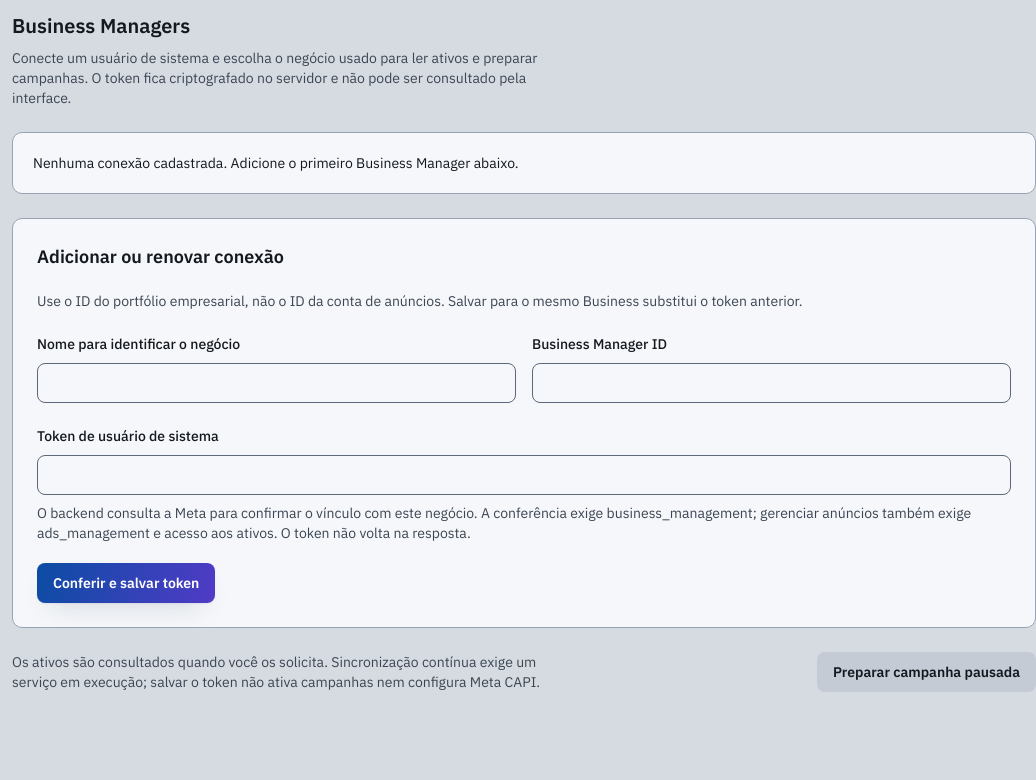
it: o token é enviado apenas ao backend, limpo do campo e nunca salvo no browser
Expected: the text "Nenhuma conexão cadastrada" is shown, [33,154,518,172]
Type "Minha BM" into the field labelled "Nome para identificar o negócio" at (276, 383), box [37,363,516,403]
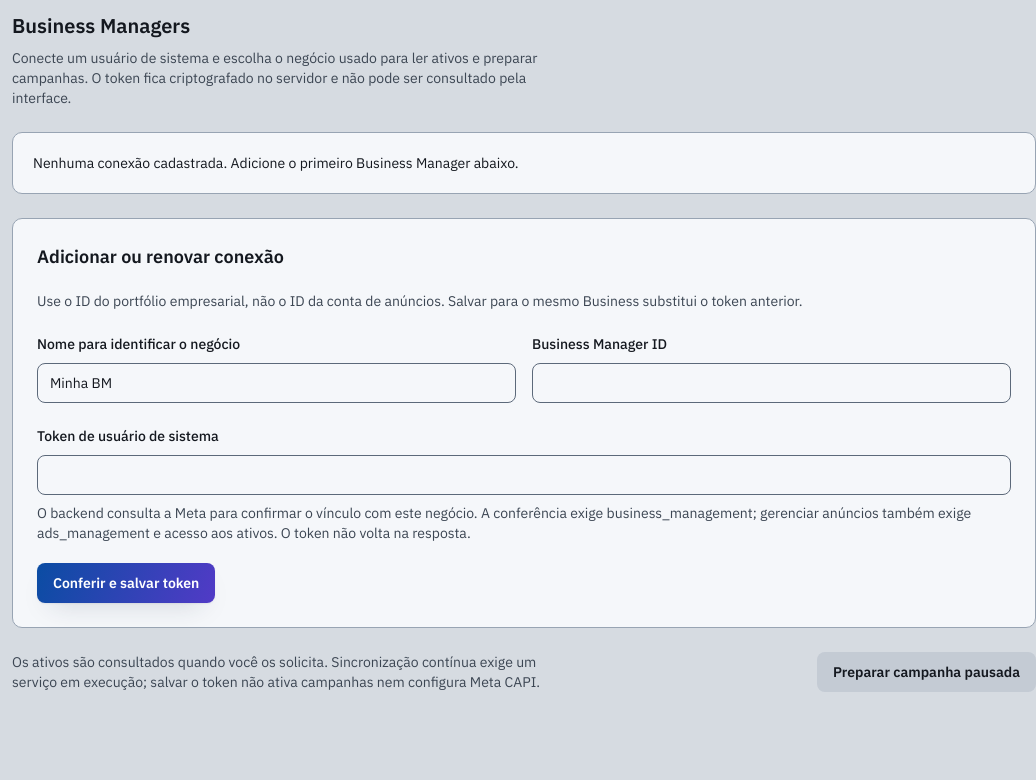
Type "123456789" into the field labelled "Business Manager ID" at (772, 383), box [532,363,1011,403]
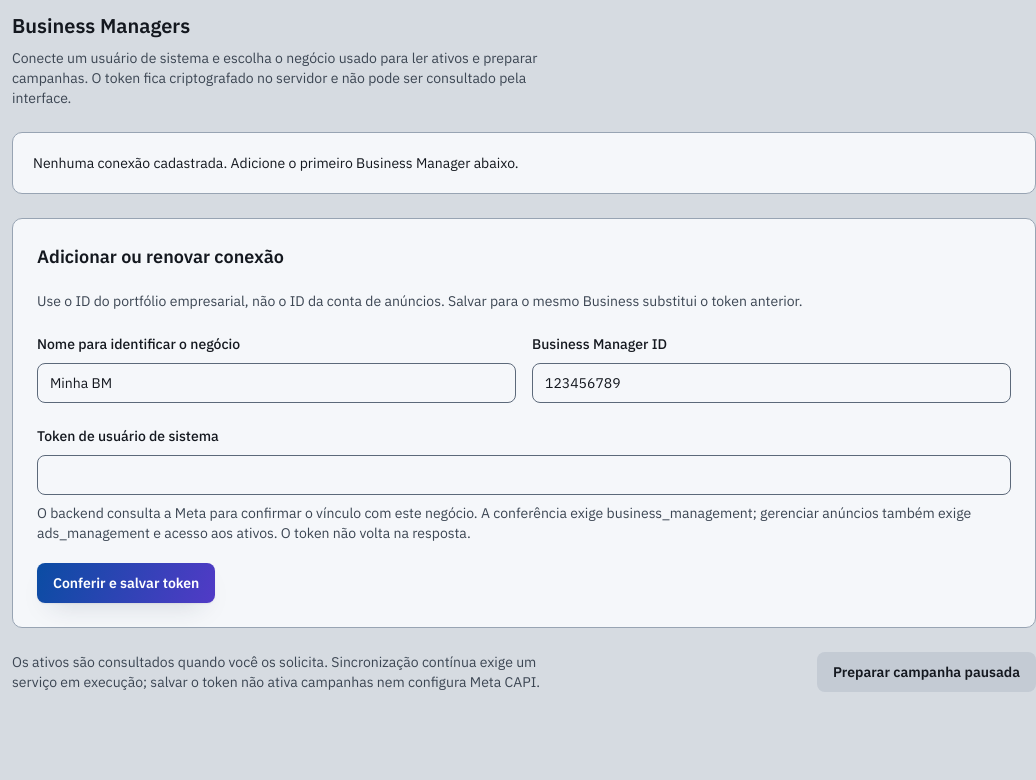
Type "fixture-only-not-a-real-token" into the password field labelled "Token de usuário de sistema" at (524, 475), box [37,455,1011,495]
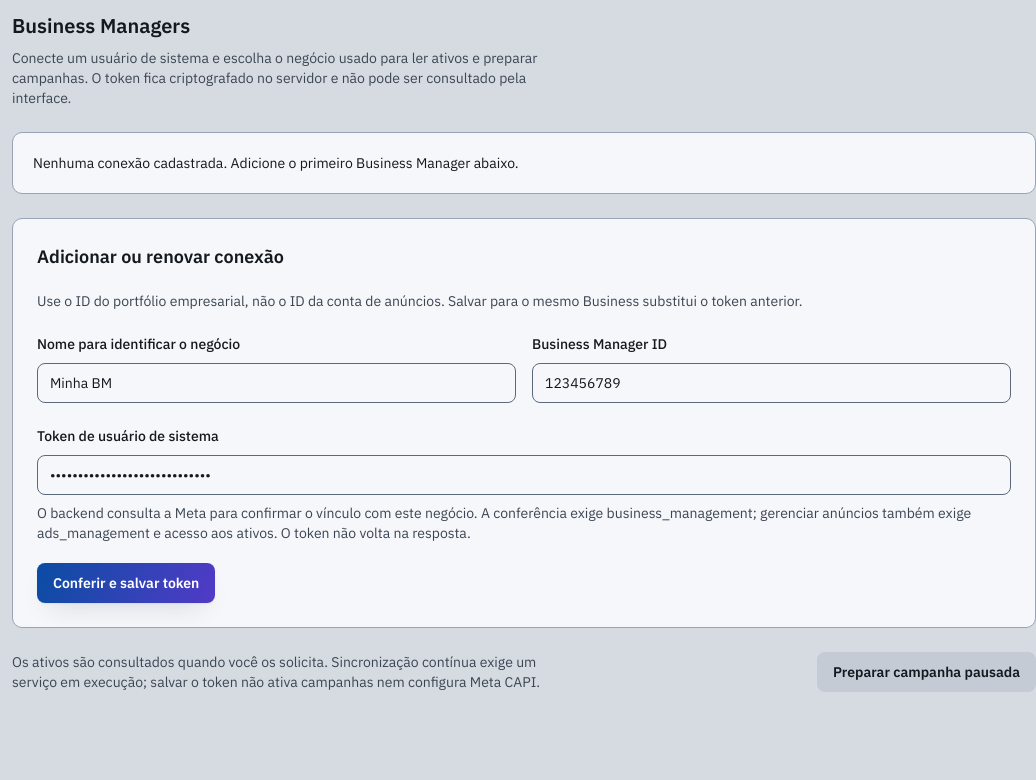
Click the button "Conferir e salvar token" at (126, 583), box [37,563,215,603]
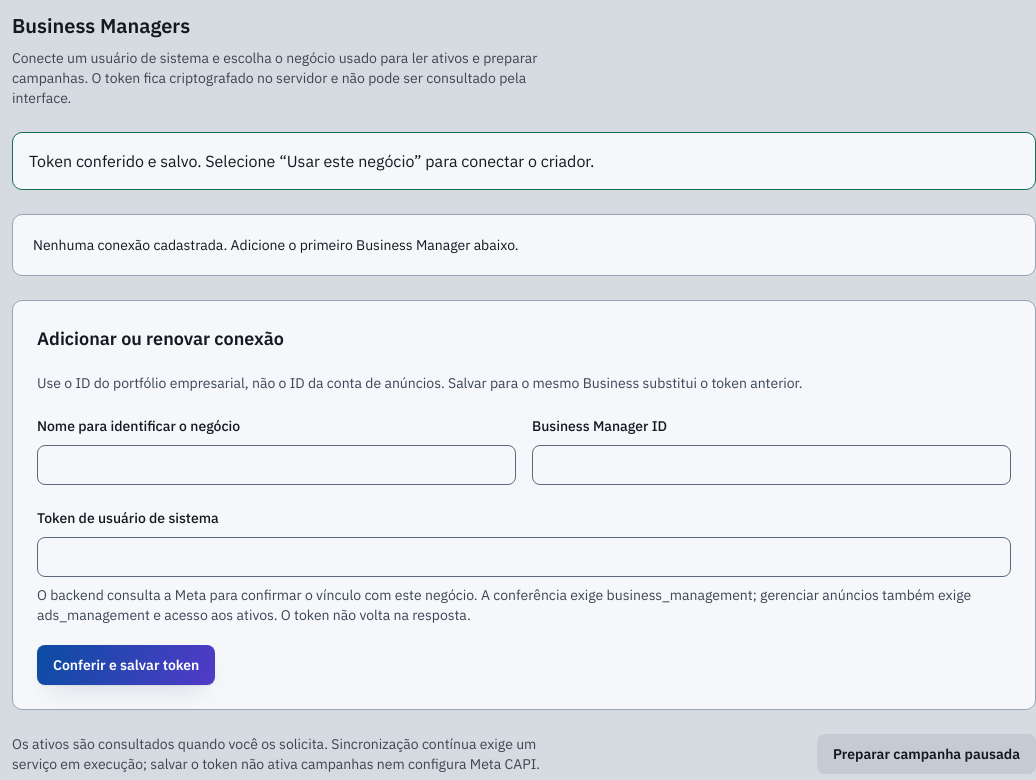
Expected: the text "Token conferido e salvo" is shown, [29,151,594,171]
Expected: the password field labelled "Token de usuário de sistema" is empty, [37,537,1011,577]
